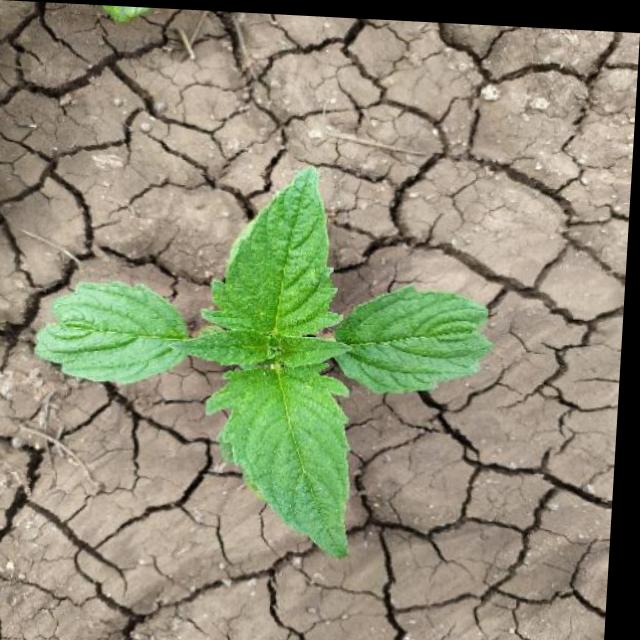crop: (23, 145, 511, 559)
